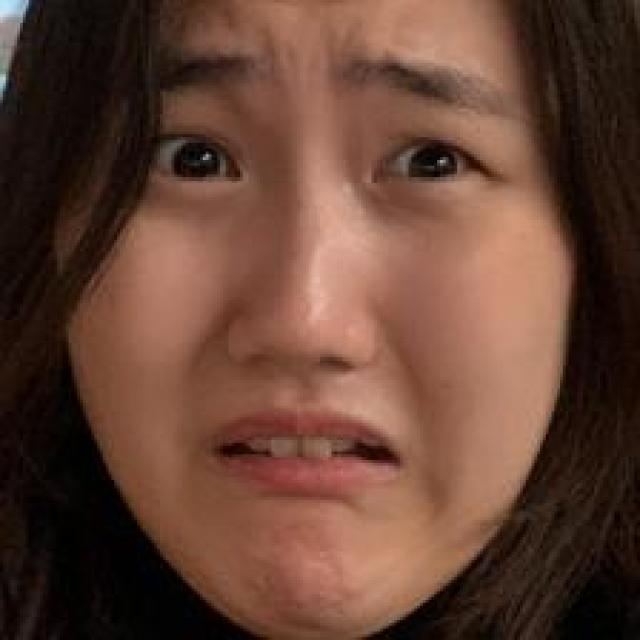fear: (103, 40, 502, 573)
